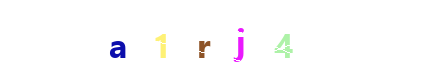1: (162, 0, 242, 80)
4: (200, 0, 280, 80)
A: (78, 0, 158, 80)
J: (184, 0, 264, 80)
R: (172, 0, 252, 80)
